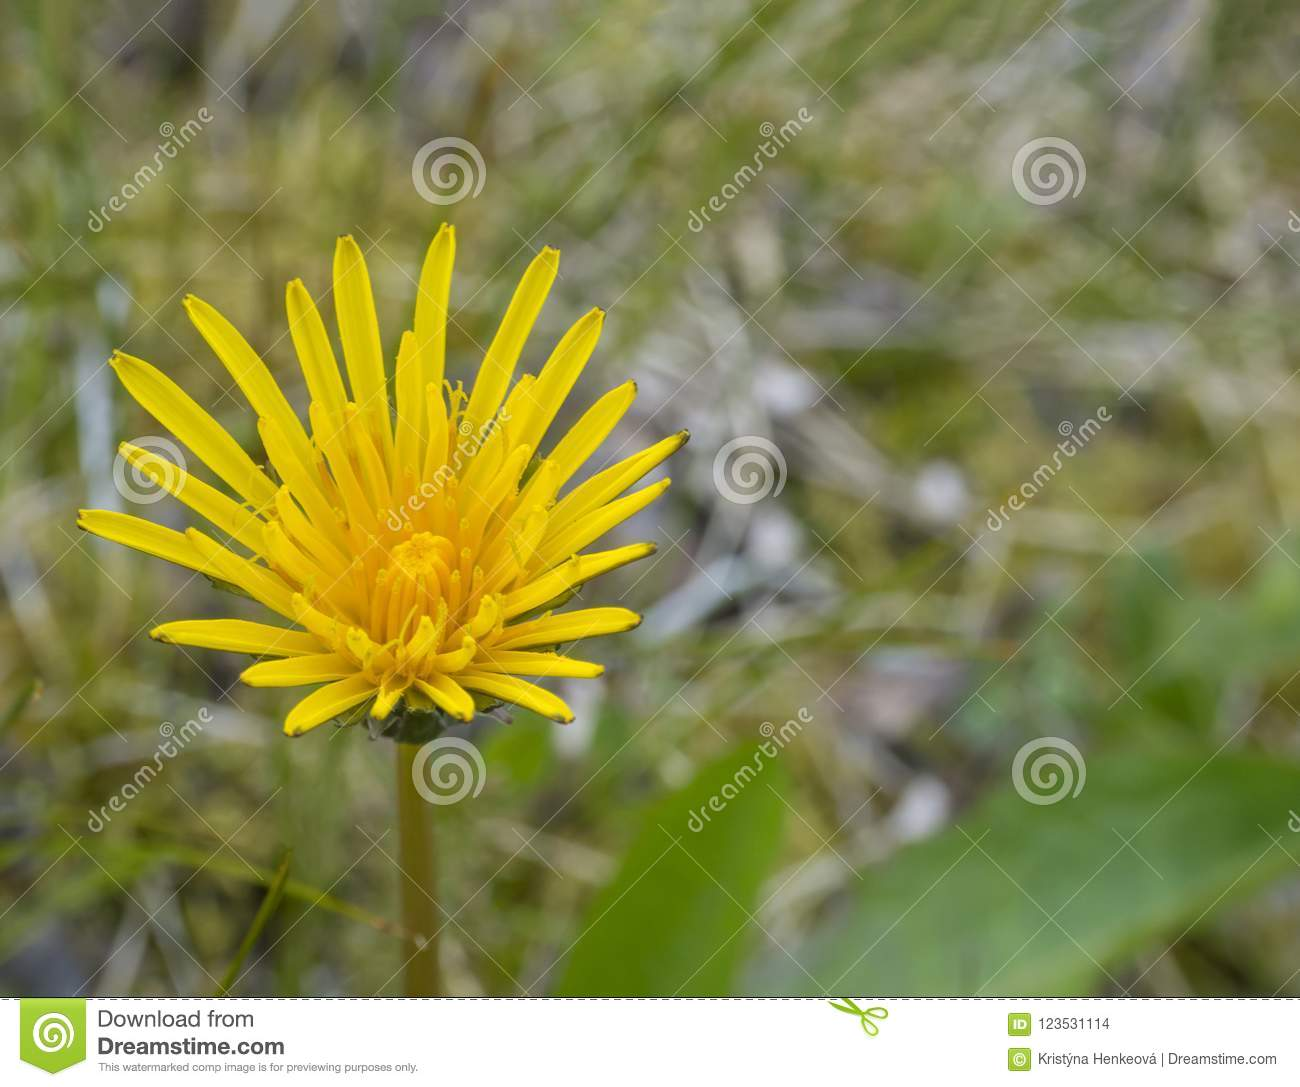dandelion: (130, 334, 629, 691)
